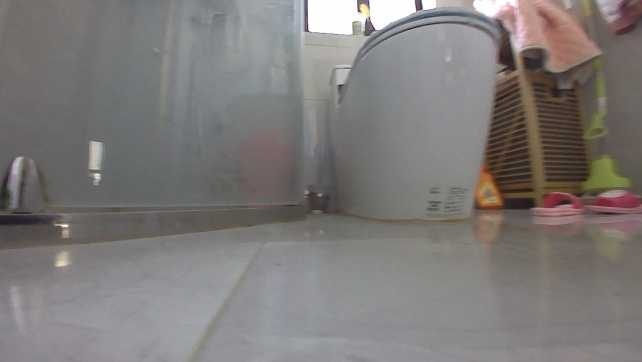door_sill: (1, 202, 309, 245)
slipper: (528, 188, 585, 218), (588, 185, 641, 214)
toilet: (326, 5, 504, 224)
